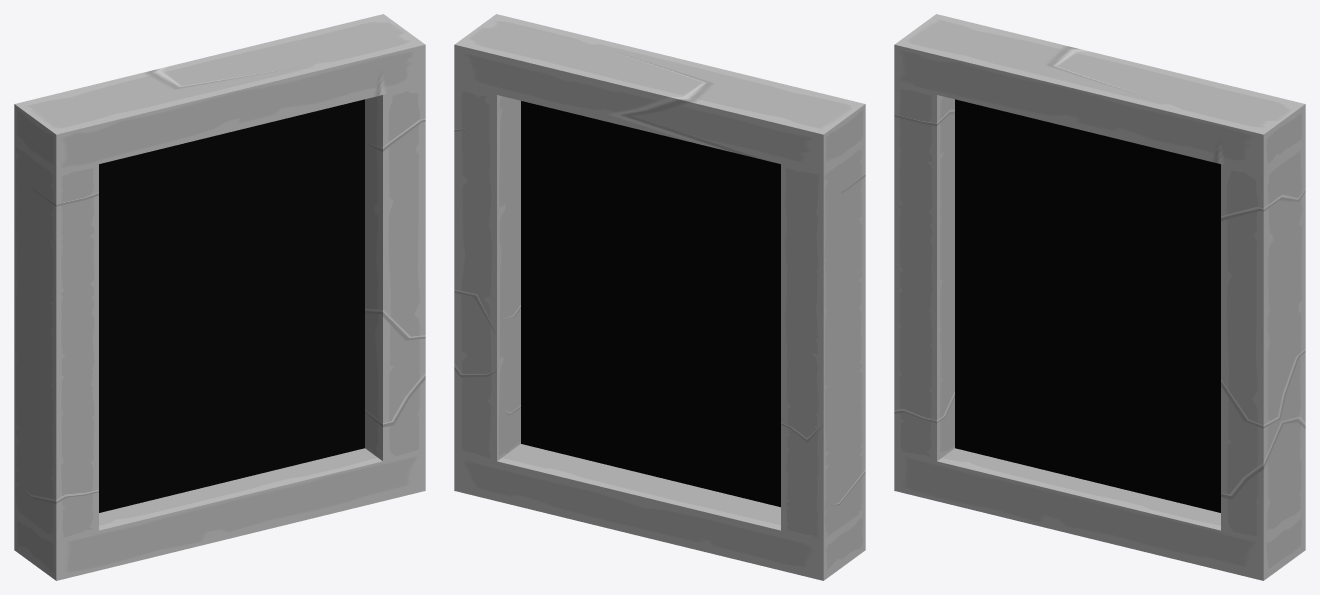
The model's file is WindowShort1.fbx.
3 renders of one model, left to right at view 1: azimuth 30°, elevation 25°; view 2: azimuth 150°, elevation 25°; view 3: azimuth 330°, elevation 25°, orthographic.
Visible parts, largest first — view 1: WindowShort1; view 2: WindowShort1; view 3: WindowShort1.
Part boxes in pixels (x1,y1,x2,y2): WindowShort1: (14,14,425,580); WindowShort1: (454,14,865,580); WindowShort1: (894,14,1305,580).
Bounding box in the file's own units: 156 × 180 × 30.61.
